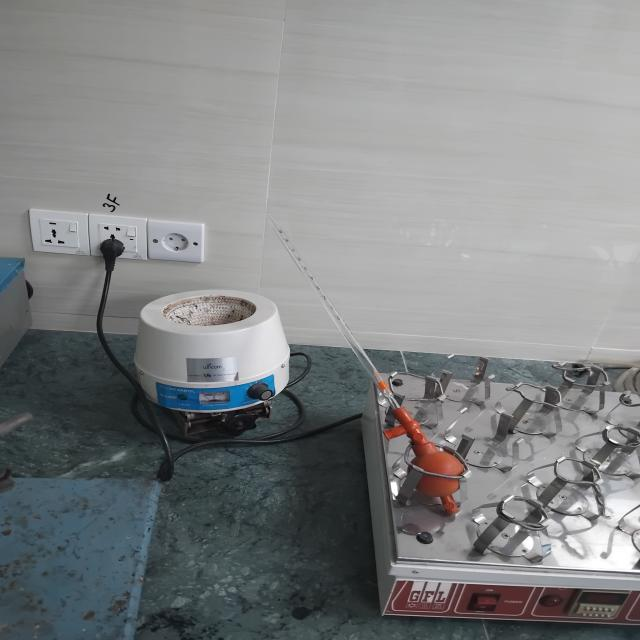Volumetric_Pipet: (263, 200, 488, 531)
